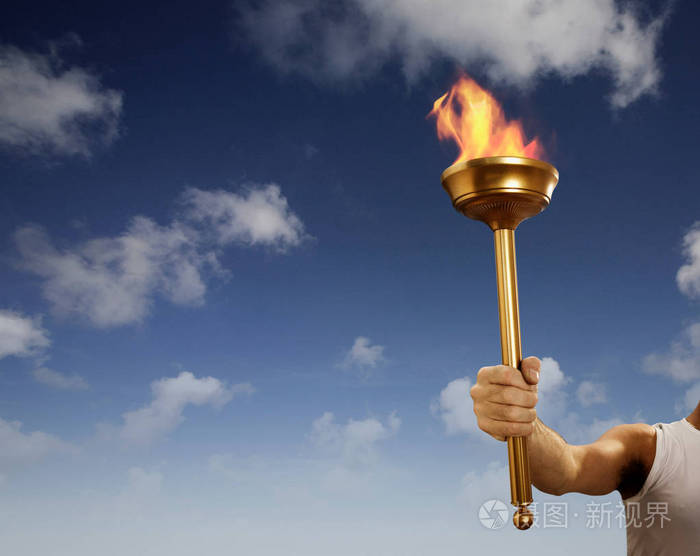no-phone: (467, 251, 554, 514)
